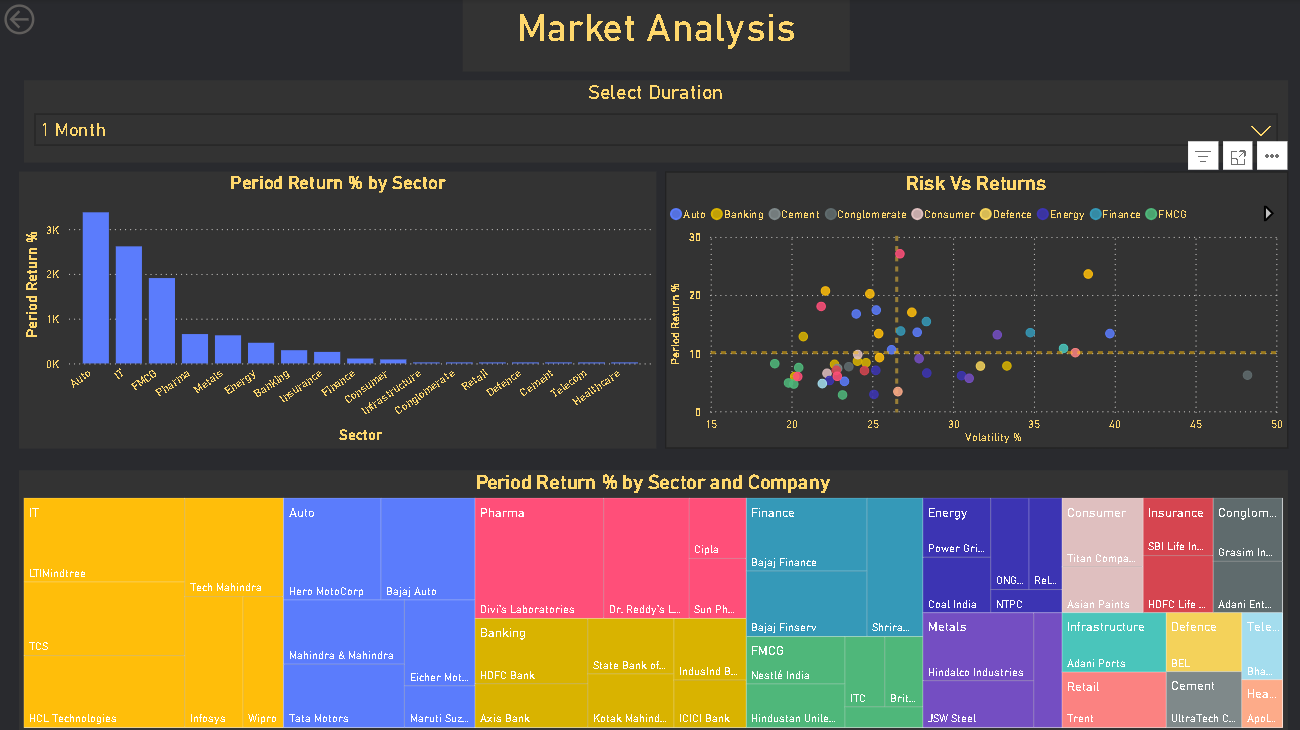

Layout of this report page (visuals, bound fields, positions):
{"tool":"powerbi","page":{"name":"Market Analysis","canvas":[1280,720],"ordinal":1},"visuals":[{"type":"slicer","title":"Select Duration","fields":{"Values":["Table.Duration"]},"box":[24.5,79.8,1240.5,81],"z":0},{"type":"treemap","fields":{"Group":["StockData.Sector"],"Details":["StockData.Company"],"Values":["StockData.Period Return %"]},"box":[19.6,462.6,1245.4,257.7],"z":1000},{"type":"textbox","box":[455.2,0,380.4,71.2],"z":2000},{"type":"clusteredColumnChart","fields":{"Category":["StockData.Sector"],"Y":["StockData.Period Return %"]},"box":[19.6,169.3,625.8,272.4],"z":3000},{"type":"scatterChart","title":"Risk Vs Returns","fields":{"X":["StockData.Volatility %"],"Y":["StockData.Period Return %"],"Category":["StockData.Ticker"],"Series":["StockData.Sector"]},"box":[654,169.3,611,272.4],"z":4000},{"type":"actionButton","box":[0,0,100,40],"z":5000}]}

Visuals, with their boxes in screenshot pixels (x1, y1, x2, y2), scaled from the page's 1280x720 canvas onto the 1300x730 screenshot:
"Select Duration" slicer: l=25, t=81, r=1285, b=163
treemap - StockData.Sector x StockData.Company: l=20, t=469, r=1285, b=729
textbox: l=462, t=0, r=849, b=72
clusteredColumnChart - StockData.Sector x StockData.Period Return %: l=20, t=172, r=655, b=448
"Risk Vs Returns" scatterChart: l=664, t=172, r=1285, b=448
actionButton: l=0, t=0, r=102, b=41
